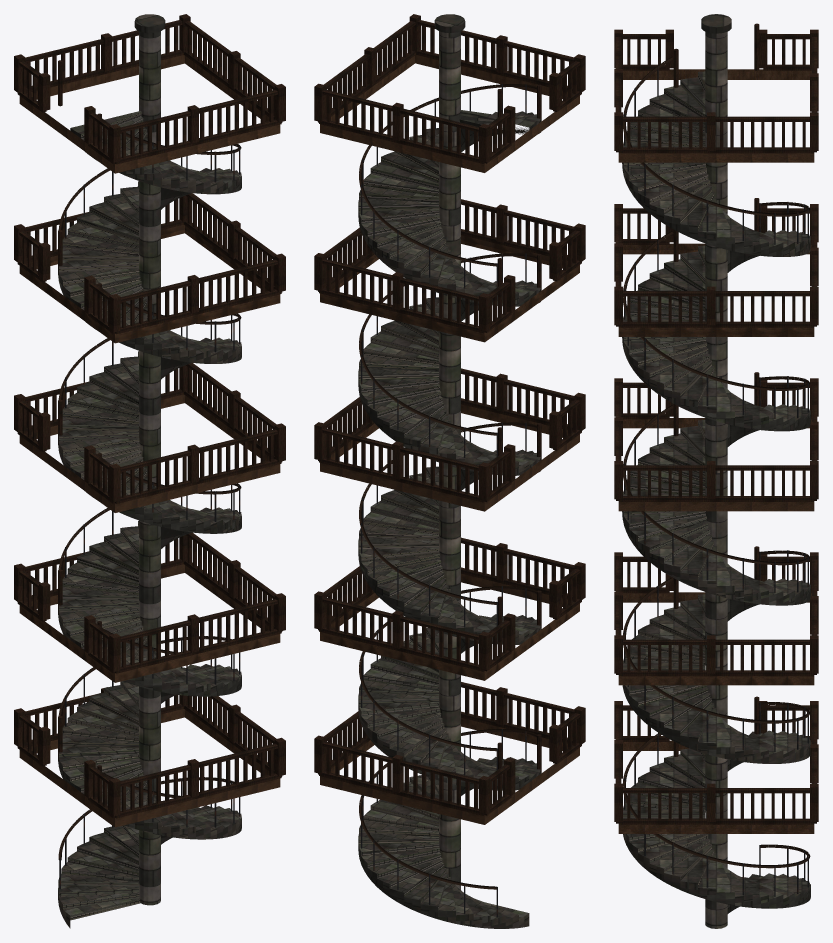
File: manor_spiral.glb
The picture shows the model from 3 angles, left to right: view 1: azimuth 30°, elevation 25°; view 2: azimuth 150°, elevation 25°; view 3: azimuth 270°, elevation 25°; orthographic projection. The views are drawn at different scales.
Visible parts, largest first — view 1: manor_spiral; view 2: manor_spiral; view 3: manor_spiral.
Boxes of the visible parts, x1,y1,x2,y2 form: manor_spiral: (14,14,285,928); manor_spiral: (314,14,585,928); manor_spiral: (614,14,818,928).
Bounding box in the file's own units: 5.74 × 28.28 × 5.74.
Materials: 7 (7 with a texture image).
